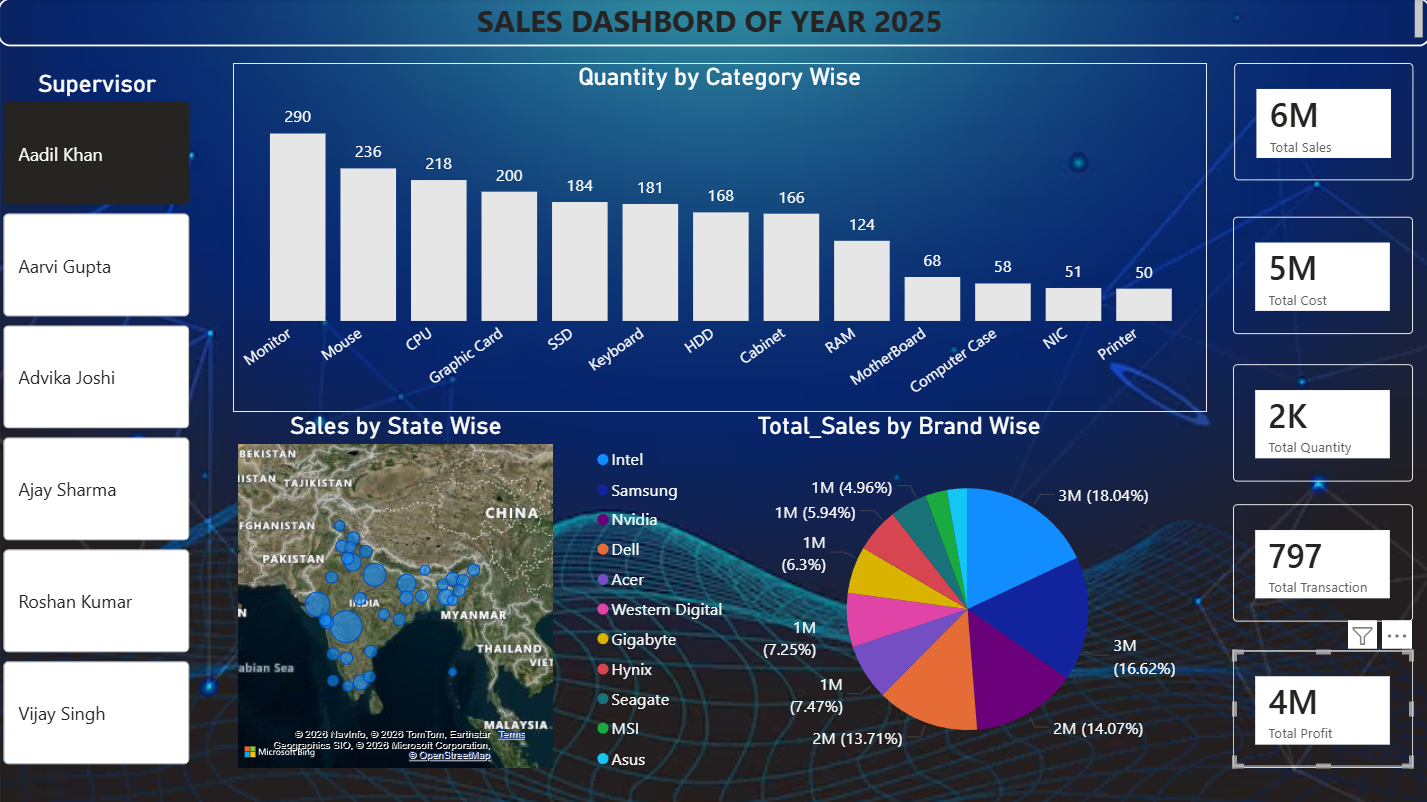

This screenshot's page, from the dashboard's own definition file:
{"tool":"powerbi","page":{"name":"Page 1","canvas":[1280,720],"ordinal":0},"visuals":[{"type":"textbox","box":[0,0,1280.8,43.6],"z":0},{"type":"cardVisual","fields":{"Data":["Sales_Data (2).Sales"]},"box":[1103.8,57.7,160.3,105.1],"z":1000},{"type":"cardVisual","fields":{"Data":["Sales_Data (2).Cost"]},"box":[1103.5,195.3,160.5,104.7],"z":2000},{"type":"cardVisual","fields":{"Data":["Sales_Data (2).Quantity"]},"box":[1103.5,326.7,160.5,104.7],"z":3000},{"type":"cardVisual","fields":{"Data":["Sales_Data (2).Order_Number"]},"box":[1103.5,452.3,160.5,104.7],"z":4000},{"type":"cardVisual","fields":{"Data":["Sales_Data (2).Total_profit"]},"box":[1103.5,582.6,160.5,104.7],"z":5000},{"type":"clusteredColumnChart","title":"Quantity by Category Wise","fields":{"Y":["Sales_Data (2).Quantity"],"Category":["Sales_Data (2).Category"]},"box":[210.5,58.1,869.8,311.6],"z":6000},{"type":"pieChart","title":"Total_Sales by Brand Wise","fields":{"Y":["Sales_Data (2).Total_Sales"],"Category":["Sales_Data (2).Brand"]},"box":[529.1,369.8,551.2,329.1],"z":7000},{"type":"map","title":"Sales by State Wise","fields":{"Category":["State_list (2).State"],"Size":["Sales_Data (2).Sales"]},"box":[210.5,369.8,290.7,323.3],"z":8000},{"type":"advancedSlicerVisual","fields":{"Values":["Supervisor (2).Supervisor"]},"box":[0,64,176.7,629.1],"z":9000}]}

Visuals, with their boxes in screenshot pixels (x1, y1, x2, y2), scaled from the page's 1280x720 canvas onto the 1427x802 screenshot:
textbox: l=0, t=0, r=1426, b=49
cardVisual - Sales_Data (2).Sales: l=1231, t=64, r=1409, b=181
cardVisual - Sales_Data (2).Cost: l=1230, t=218, r=1409, b=334
cardVisual - Sales_Data (2).Quantity: l=1230, t=364, r=1409, b=481
cardVisual - Sales_Data (2).Order_Number: l=1230, t=504, r=1409, b=620
cardVisual - Sales_Data (2).Total_profit: l=1230, t=649, r=1409, b=766
"Quantity by Category Wise" clusteredColumnChart: l=235, t=65, r=1204, b=412
"Total_Sales by Brand Wise" pieChart: l=590, t=412, r=1204, b=778
"Sales by State Wise" map: l=235, t=412, r=559, b=772
advancedSlicerVisual - Supervisor (2).Supervisor: l=0, t=71, r=197, b=772
